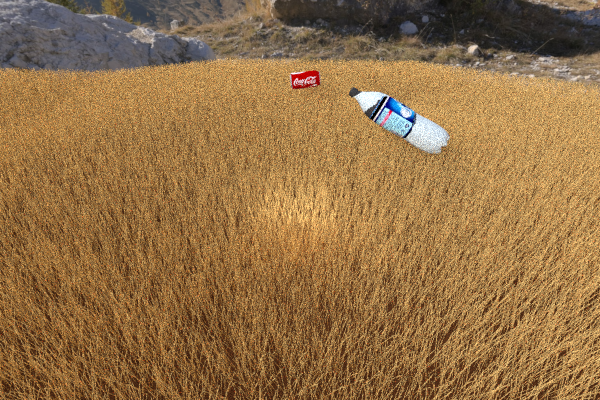Plastic Bottle: (348, 87, 449, 153), (461, 140, 552, 192), (289, 70, 320, 89)
